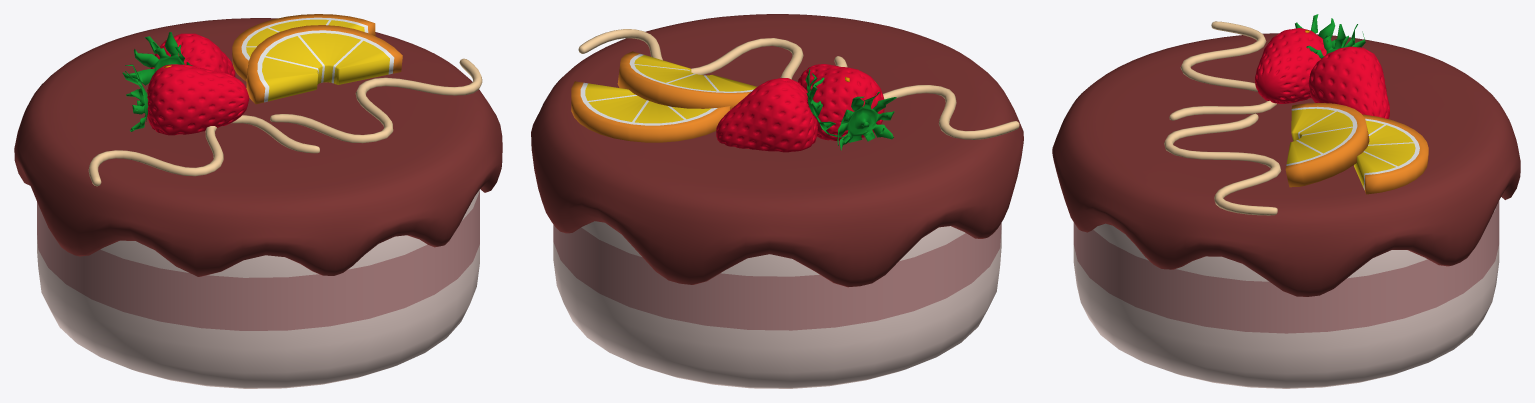
The model's file is Upgraded strawberry.fbx.
The picture shows the model from 3 angles, left to right: view 1: azimuth 30°, elevation 25°; view 2: azimuth 150°, elevation 25°; view 3: azimuth 270°, elevation 25°; orthographic projection. The views are drawn at different scales.
Parts seen in each view (by area): view 1: Upgraded strawberry; view 2: Upgraded strawberry; view 3: Upgraded strawberry.
Boxes of the visible parts, bbox=[...] form: Upgraded strawberry: bbox=[14, 14, 502, 388]; Upgraded strawberry: bbox=[531, 14, 1023, 388]; Upgraded strawberry: bbox=[1052, 14, 1520, 388].
Bounding box in the file's own units: 202 × 122 × 202.
